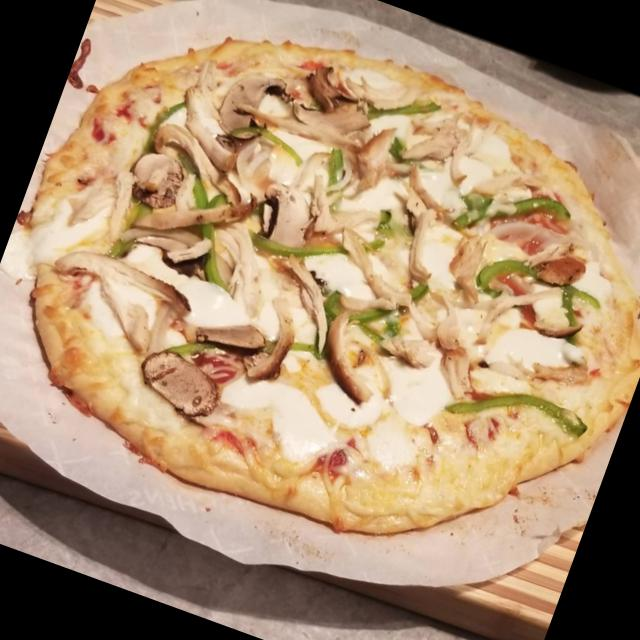mushrooms: (41, 234, 203, 369), (120, 160, 260, 268), (132, 113, 264, 220), (208, 58, 331, 164), (113, 198, 245, 290), (413, 341, 516, 451), (476, 264, 588, 354), (308, 307, 402, 409), (252, 248, 350, 344), (304, 50, 416, 130), (157, 79, 250, 168), (136, 338, 230, 424), (229, 286, 303, 392), (377, 193, 453, 290), (378, 288, 461, 368), (298, 173, 380, 252), (244, 176, 320, 260), (337, 224, 415, 296), (347, 124, 417, 194), (439, 226, 499, 304), (387, 161, 462, 221), (194, 304, 271, 362), (124, 146, 186, 215), (402, 114, 462, 174)
peppers: (424, 359, 594, 466), (174, 296, 324, 402), (464, 242, 612, 338), (245, 197, 382, 290), (310, 250, 428, 348), (454, 164, 573, 258), (176, 180, 248, 282), (297, 143, 356, 230), (363, 74, 440, 134), (235, 113, 312, 170), (134, 88, 188, 158)
pizza: (14, 36, 640, 540)
